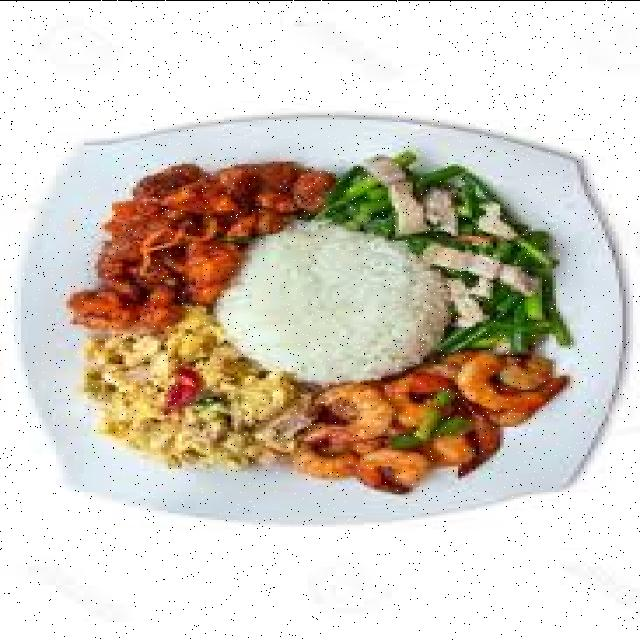Chicken: (66, 163, 332, 330)
Egg: (80, 307, 308, 470)
Green veg: (315, 151, 570, 354)
Pork: (420, 244, 535, 291), (360, 158, 427, 233)
Rice: (213, 223, 448, 384)
